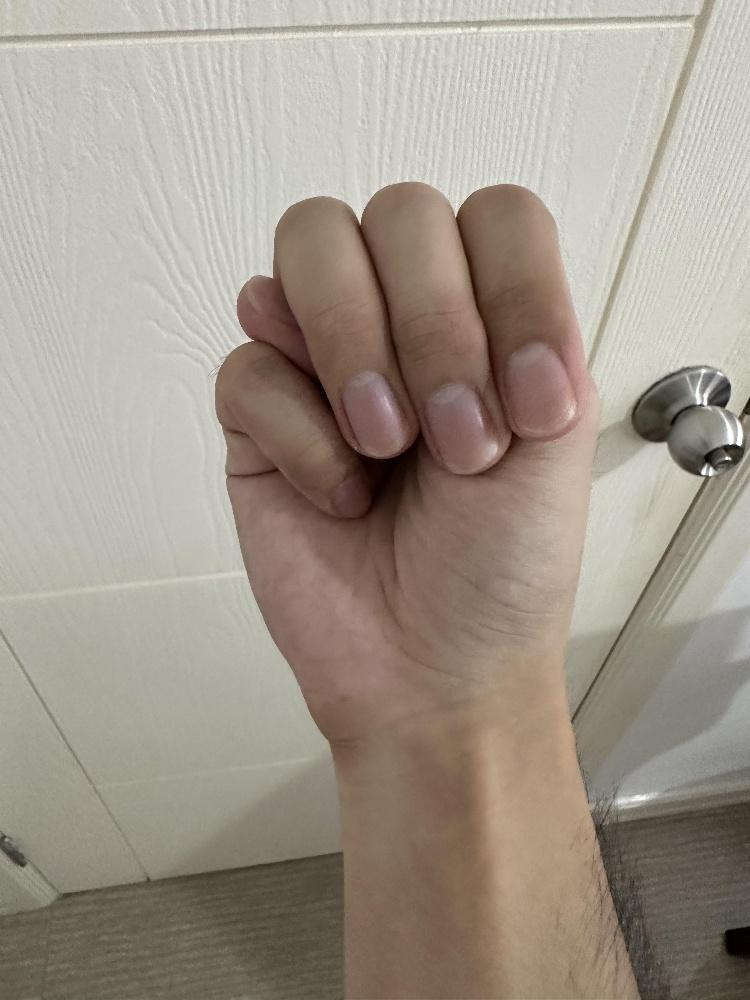m: (211, 174, 603, 743)
